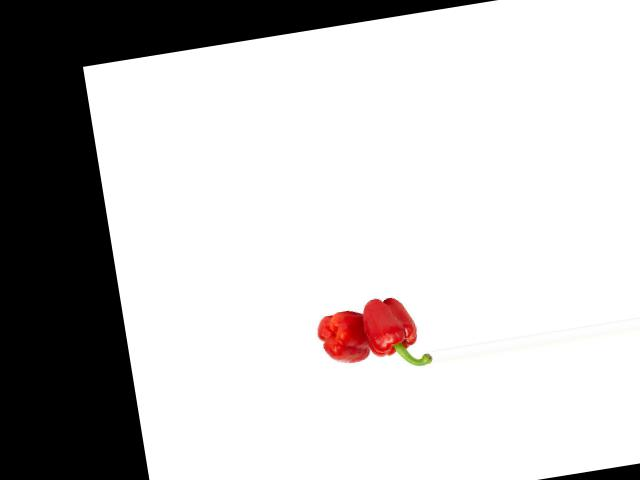bell_pepper: (314, 305, 372, 370)
